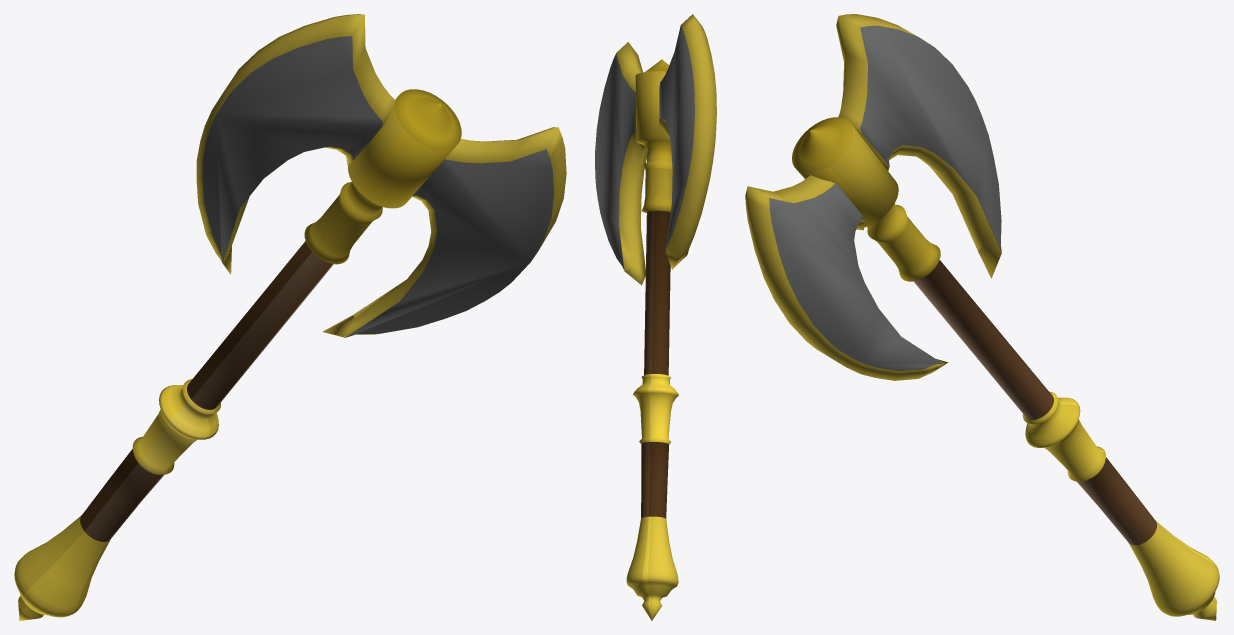
The model's file is MinotaurAxe.fbx.
The picture shows the model from 3 angles, left to right: view 1: azimuth 30°, elevation 25°; view 2: azimuth 150°, elevation 25°; view 3: azimuth 270°, elevation 25°; orthographic projection. The views are drawn at different scales.
Parts seen in each view (by area): view 1: Minotaur_Axe; view 2: Minotaur_Axe; view 3: Minotaur_Axe.
Boxes of the visible parts, left/top/right/bottom form: Minotaur_Axe: left=14, top=14, right=566, bottom=620; Minotaur_Axe: left=595, top=14, right=716, bottom=620; Minotaur_Axe: left=745, top=14, right=1219, bottom=620.
Bounding box in the file's own units: 1.14 × 1.55 × 2.41.
1 material, 1 textured.
